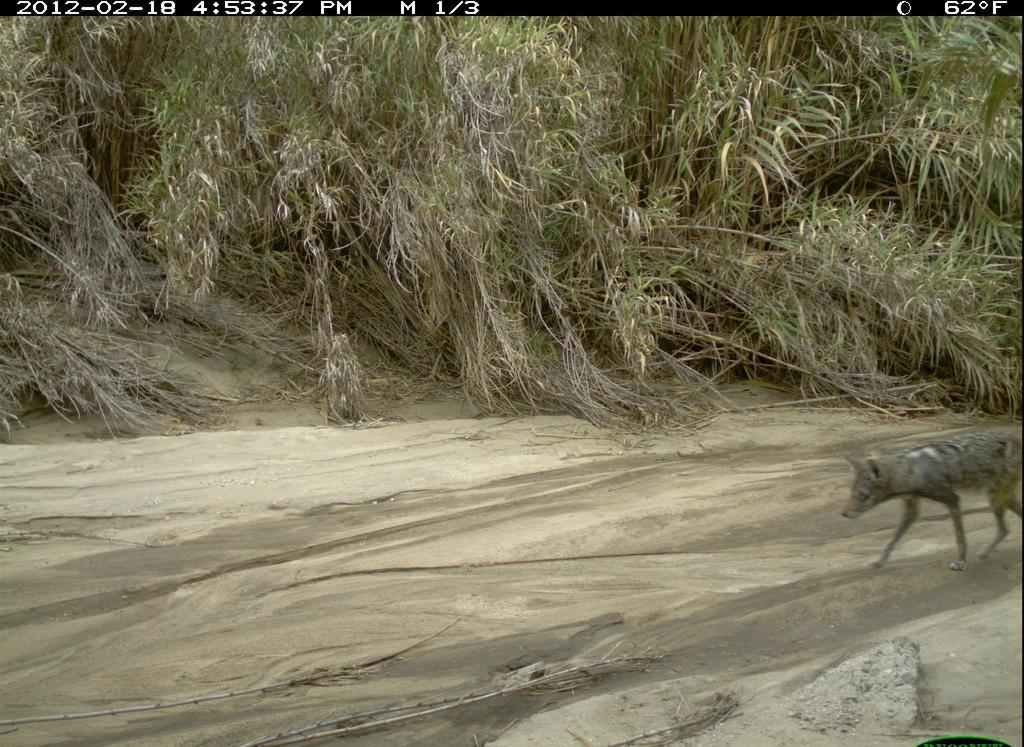coyote: (838, 431, 1024, 579)
